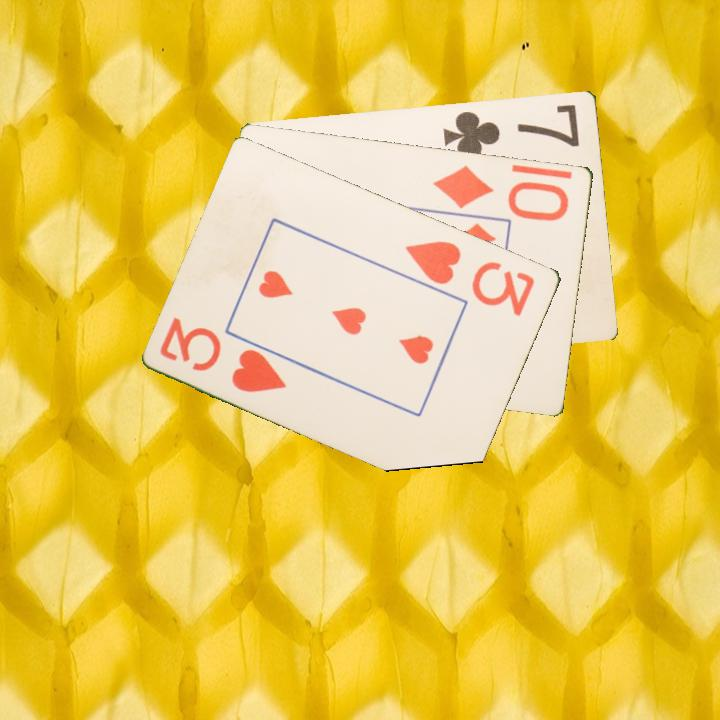10d: (430, 161, 573, 224)
3h: (402, 236, 539, 319), (156, 313, 290, 396)
7c: (439, 100, 582, 163)
